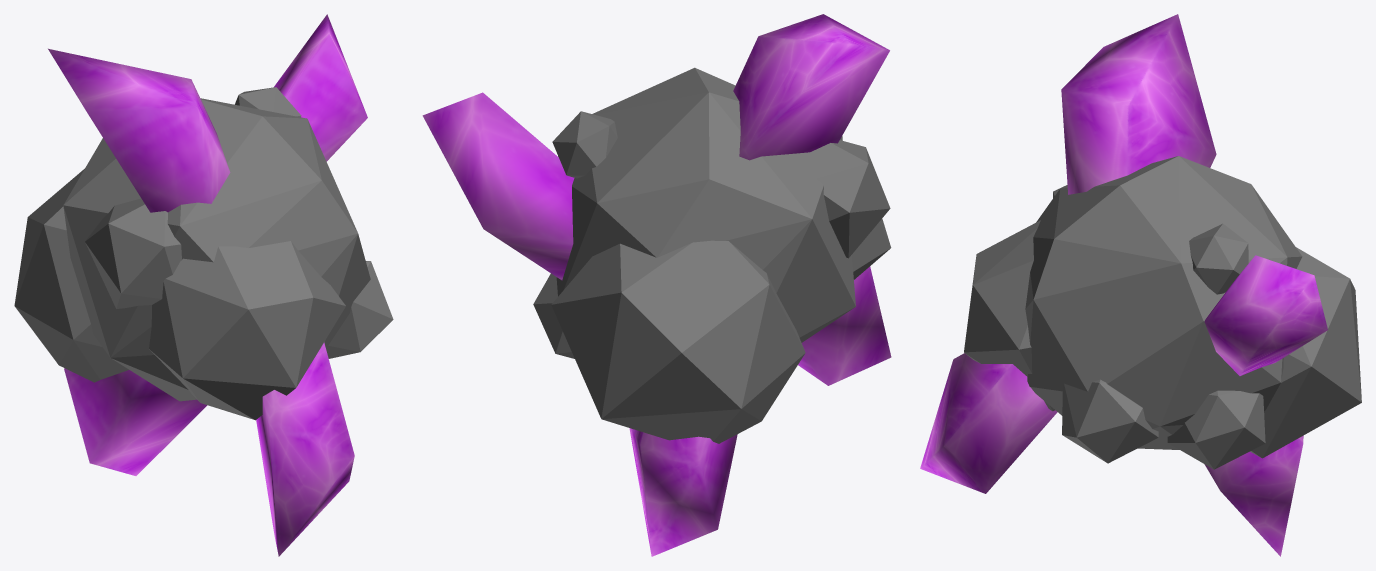
Rendered from CursedOre_blender.fbx.
The picture shows the model from 3 angles, left to right: view 1: azimuth 30°, elevation 25°; view 2: azimuth 150°, elevation 25°; view 3: azimuth 270°, elevation 25°; orthographic projection. The views are drawn at different scales.
Parts seen in each view (by area): view 1: StoneOre.038, CursedParticle.025; view 2: StoneOre.038, CursedParticle.025; view 3: StoneOre.038, CursedParticle.025.
Boxes of the visible parts, x1,y1,x2,y2 form: StoneOre.038: (14,87,393,420); CursedParticle.025: (48,14,367,556); StoneOre.038: (533,67,891,443); CursedParticle.025: (422,14,891,556); StoneOre.038: (964,156,1361,469); CursedParticle.025: (920,14,1327,556).
Size of the model in its own units: 265 by 362 by 304.
